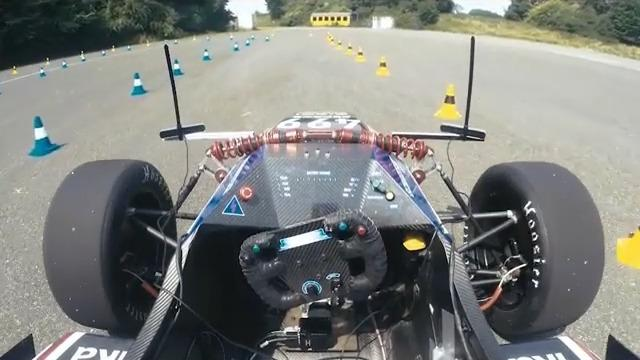blue_cone: (25, 115, 58, 157), (125, 71, 146, 97), (168, 57, 184, 78), (201, 49, 213, 62), (37, 66, 47, 79), (60, 59, 68, 70), (232, 43, 239, 53), (80, 54, 86, 64), (100, 51, 107, 59), (245, 38, 251, 47), (127, 44, 132, 52)
yellow_cone: (615, 203, 640, 270), (431, 80, 461, 121), (375, 56, 392, 78), (355, 47, 367, 63), (344, 42, 355, 56), (335, 39, 344, 50), (12, 66, 19, 77), (80, 49, 86, 59), (330, 37, 336, 46), (45, 56, 49, 67), (110, 45, 116, 52), (146, 40, 150, 47)
